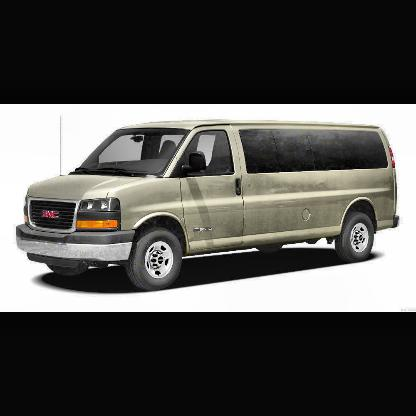GMC Savana Van 2012: (16, 125, 402, 290)
